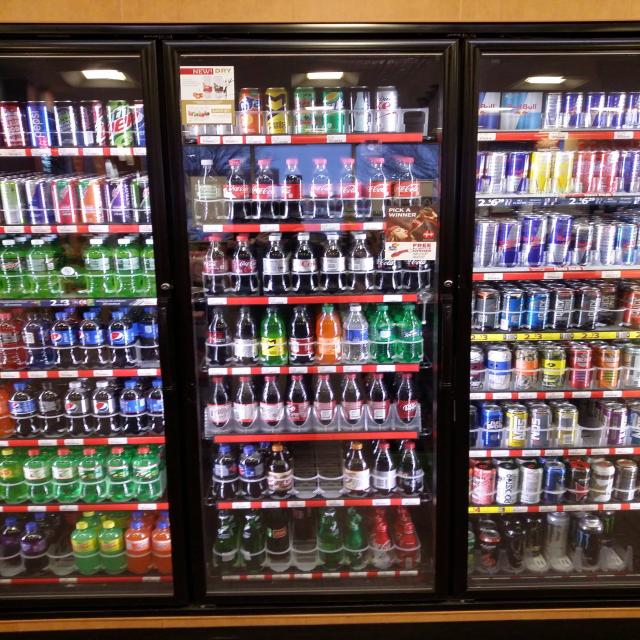empty: (295, 443, 345, 495), (397, 84, 433, 136), (579, 397, 603, 454)
